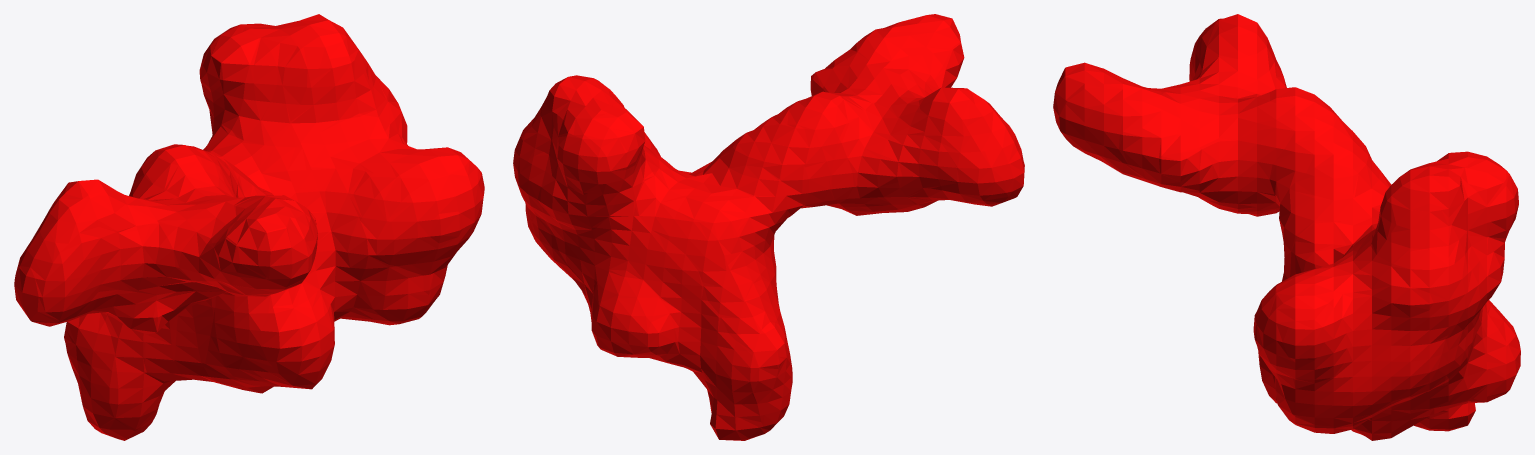
File: rpsD_coarse.dae
3 views of the same model, side by side, from view 1: azimuth 30°, elevation 25°; view 2: azimuth 150°, elevation 25°; view 3: azimuth 270°, elevation 25° (orthographic). The views are drawn at different scales.
Visible parts, largest first — view 1: rpsD; view 2: rpsD; view 3: rpsD.
Boxes of the visible parts, left/top/right/bottom form: rpsD: left=14, top=14, right=484, bottom=440; rpsD: left=513, top=14, right=1024, bottom=440; rpsD: left=1053, top=14, right=1520, bottom=440.
Bounding box in the file's own units: 75.36 × 52.32 × 63.71.
